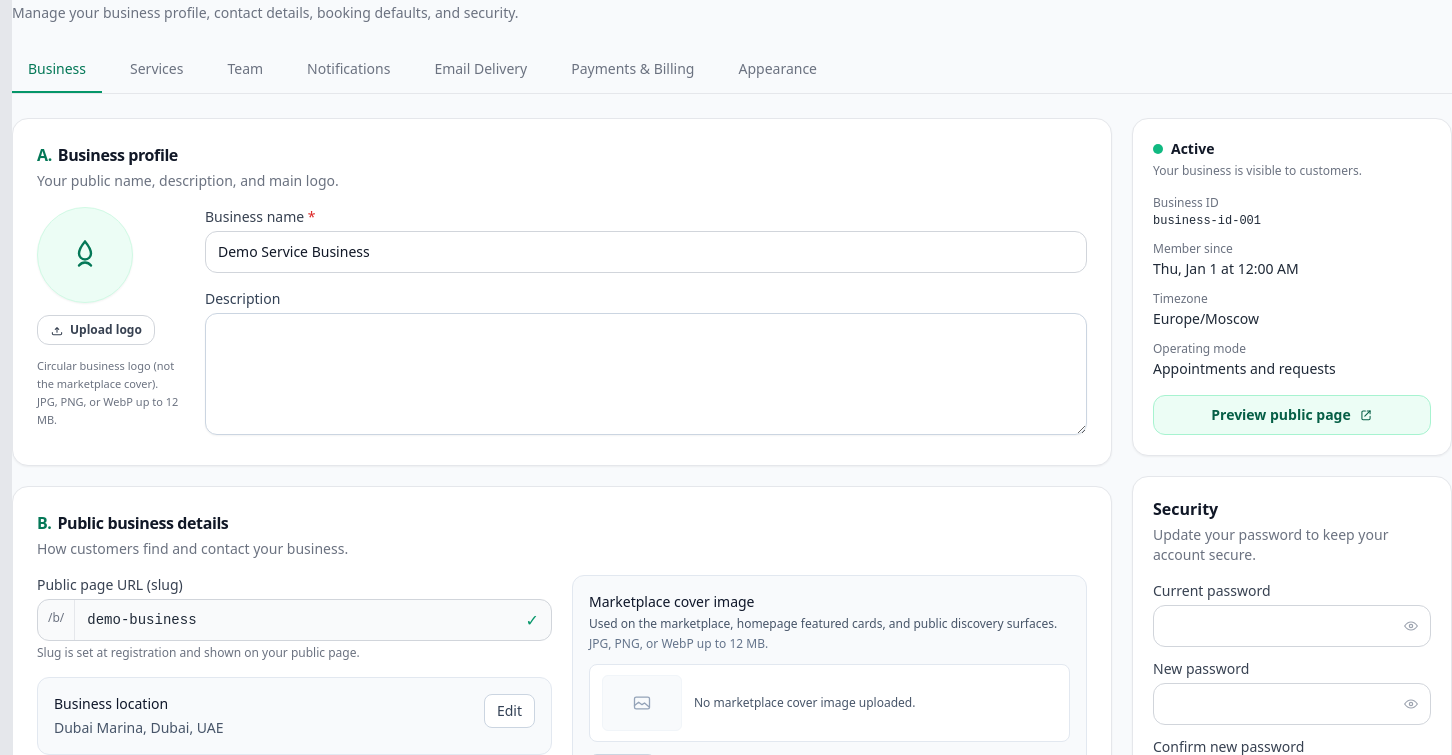
Test: admin business location settings › cancel collapses without saving changes
Click the button with test id "admin-business-location-edit" at (509, 711), box 484,694 -> 535,728
(page scrolled)
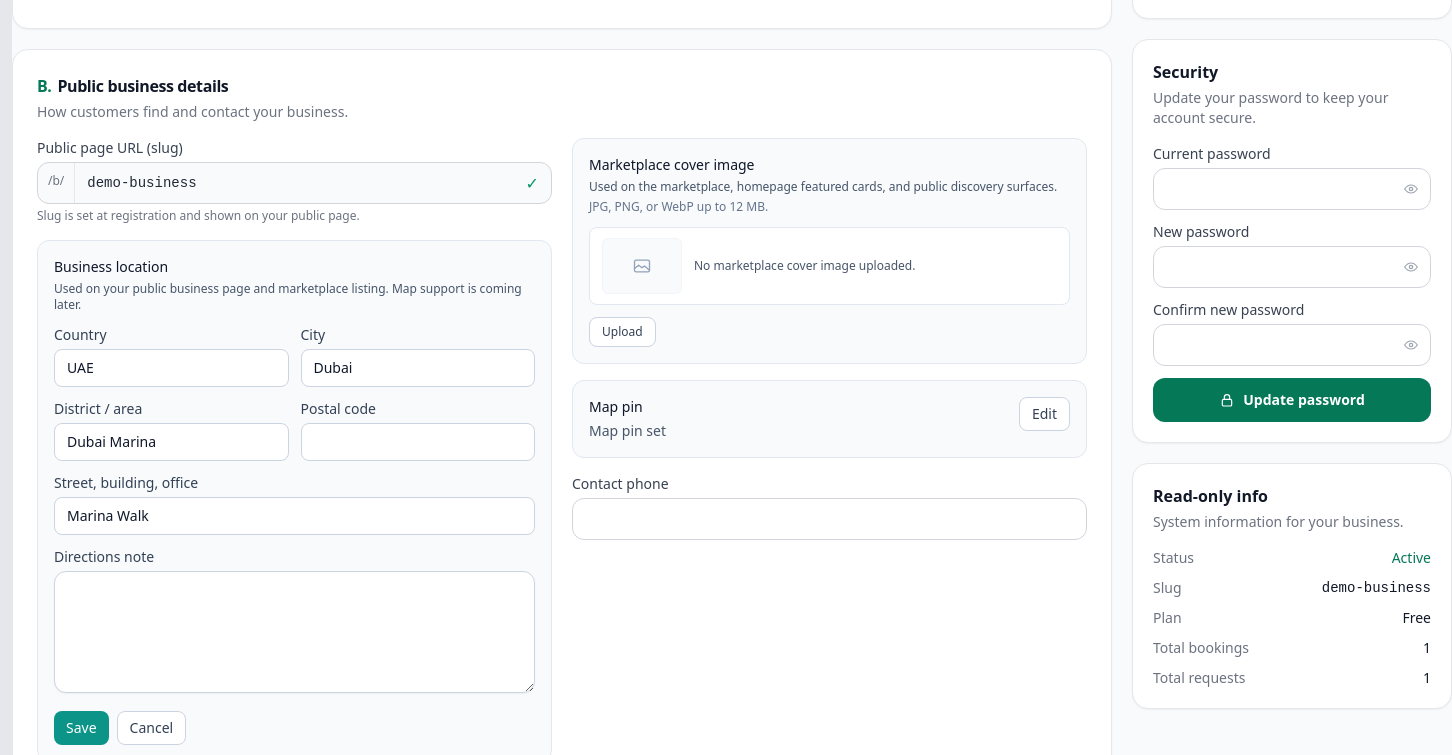
Replace the text in the field labelled "City" with "Abu Dhabi" at (418, 368), box 300,349 -> 535,387
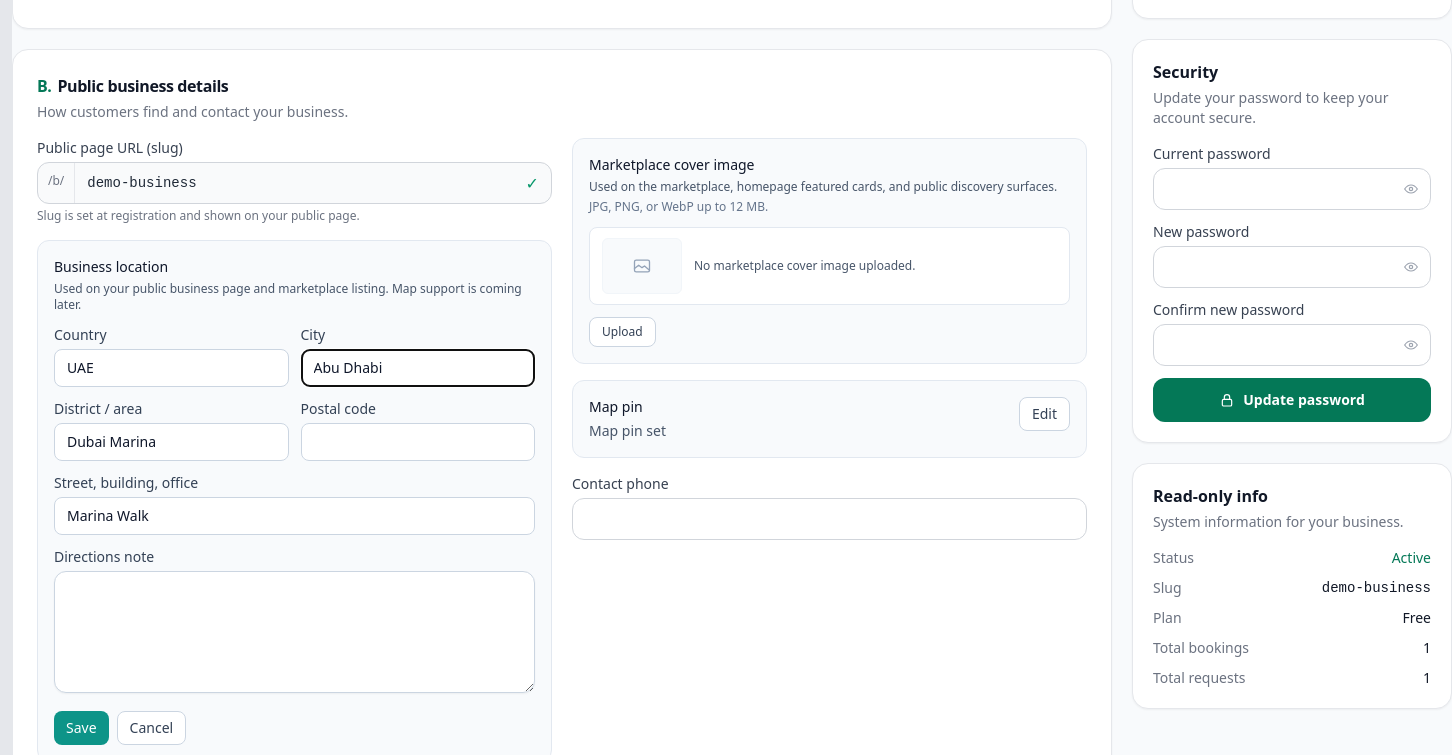
Click the button with test id "admin-business-location-cancel" at (151, 728), box 117,711 -> 186,745
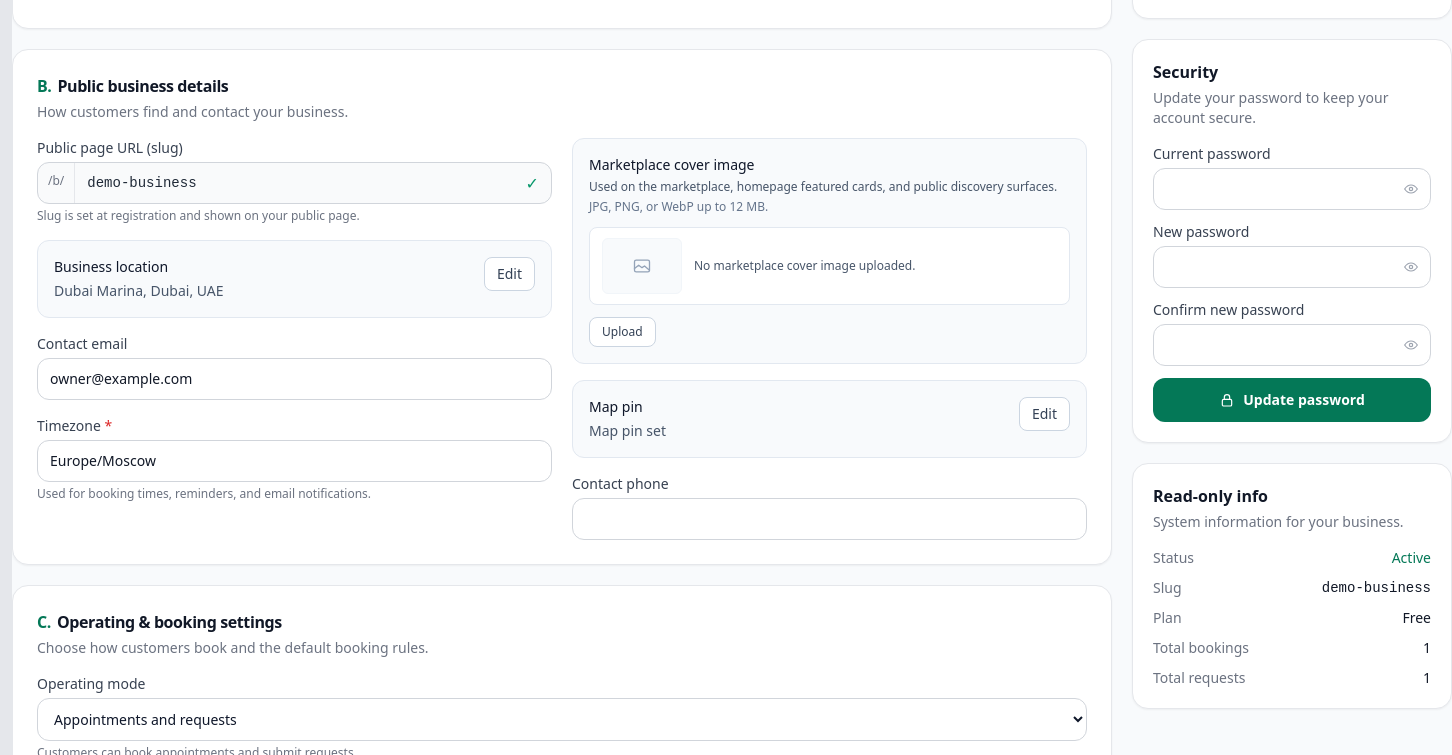
Check: the element with test id "admin-business-location-form" is gone
Check: the text with test id "admin-business-location-summary" reads "Dubai Marina, Dubai, UAE", box 54,281 -> 224,300
